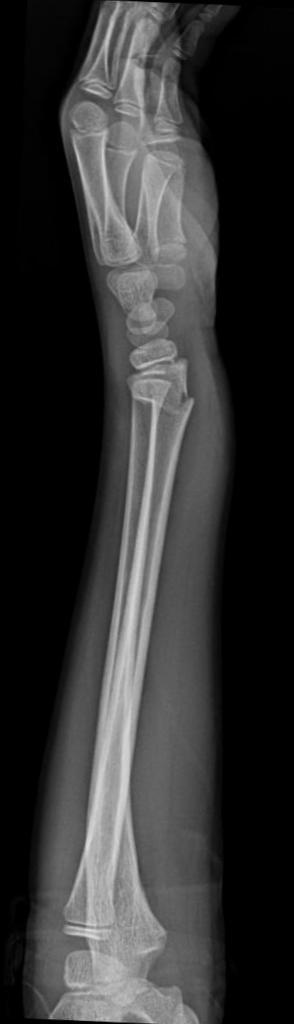angle: (165, 391, 194, 421)
line: (130, 393, 162, 408)
